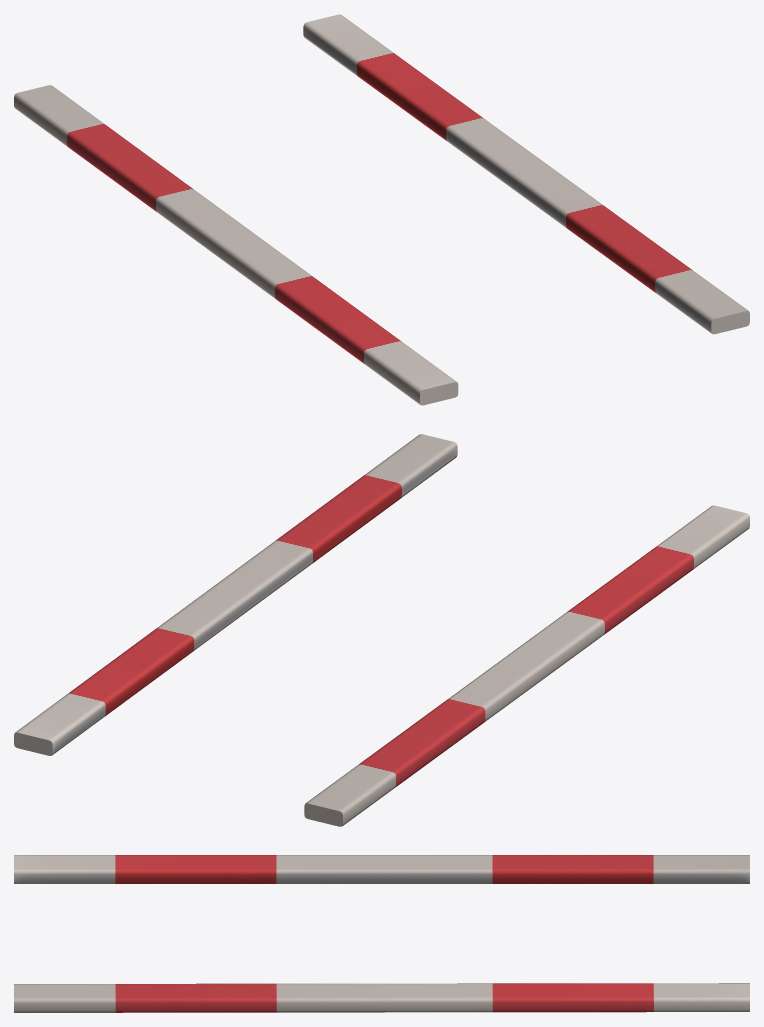
File: Road_Straight_Out.fbx
The picture shows the model from 3 angles, top to bottom: view 1: azimuth 30°, elevation 25°; view 2: azimuth 150°, elevation 25°; view 3: azimuth 270°, elevation 25°; orthographic projection. The views are drawn at different scales.
Visible parts, largest first — view 1: Road_Straight_Out; view 2: Road_Straight_Out; view 3: Road_Straight_Out.
Part boxes in pixels (bbox=[...]): Road_Straight_Out: bbox=[14, 14, 749, 405]; Road_Straight_Out: bbox=[14, 434, 749, 826]; Road_Straight_Out: bbox=[14, 855, 749, 1012].
Bounding box in the file's own units: 705 × 31.69 × 1500.
